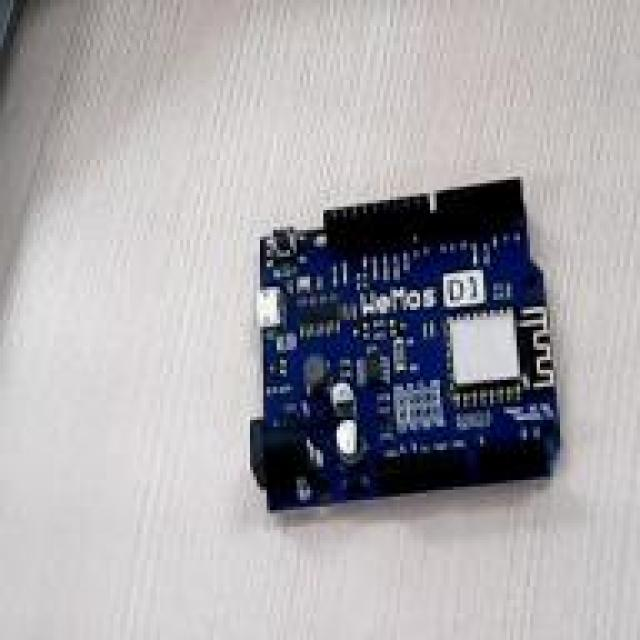Wemos: (251, 178, 558, 508)
